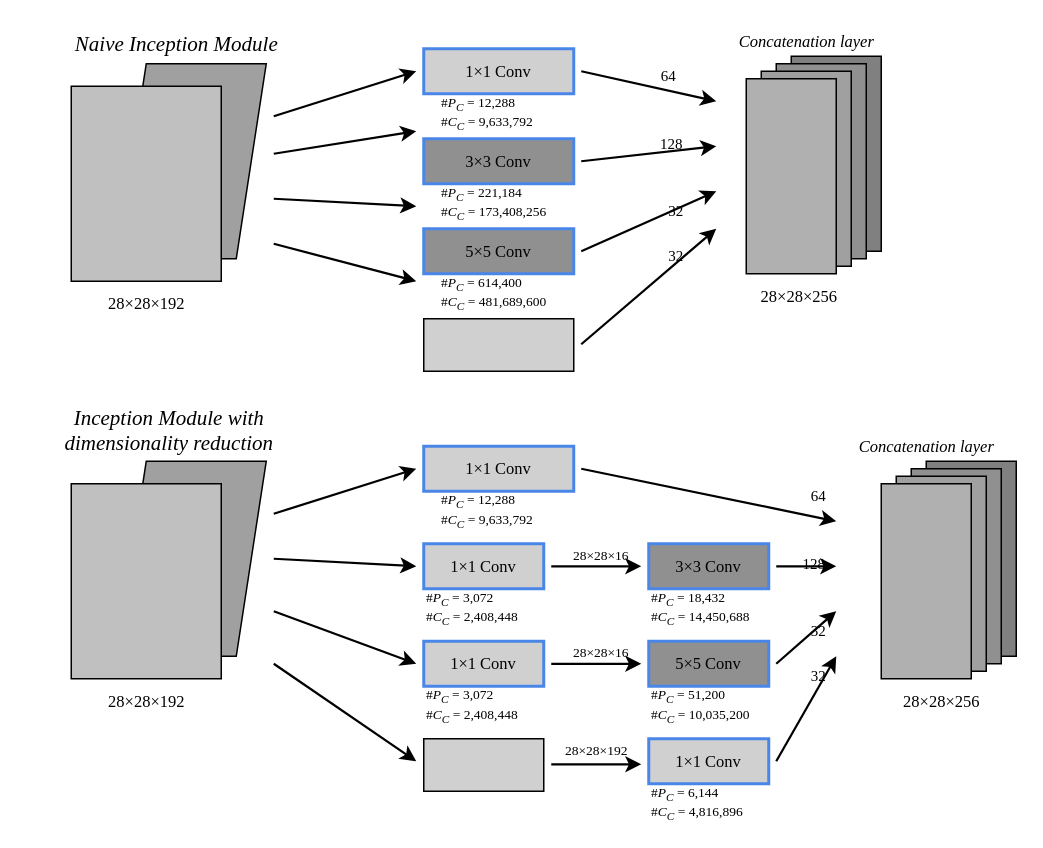
Some shapes in this 1043 by 848 pixel diagram are drawn without their labels. The shapes that lost their labels are listed below. From the top down, each one's box as (x1, y1, x2, y2) in pixels, then its label:
(422, 317, 574, 371): MAX-POOL 3×3
(422, 737, 544, 791): MAX-POOL 3×3, s=1
